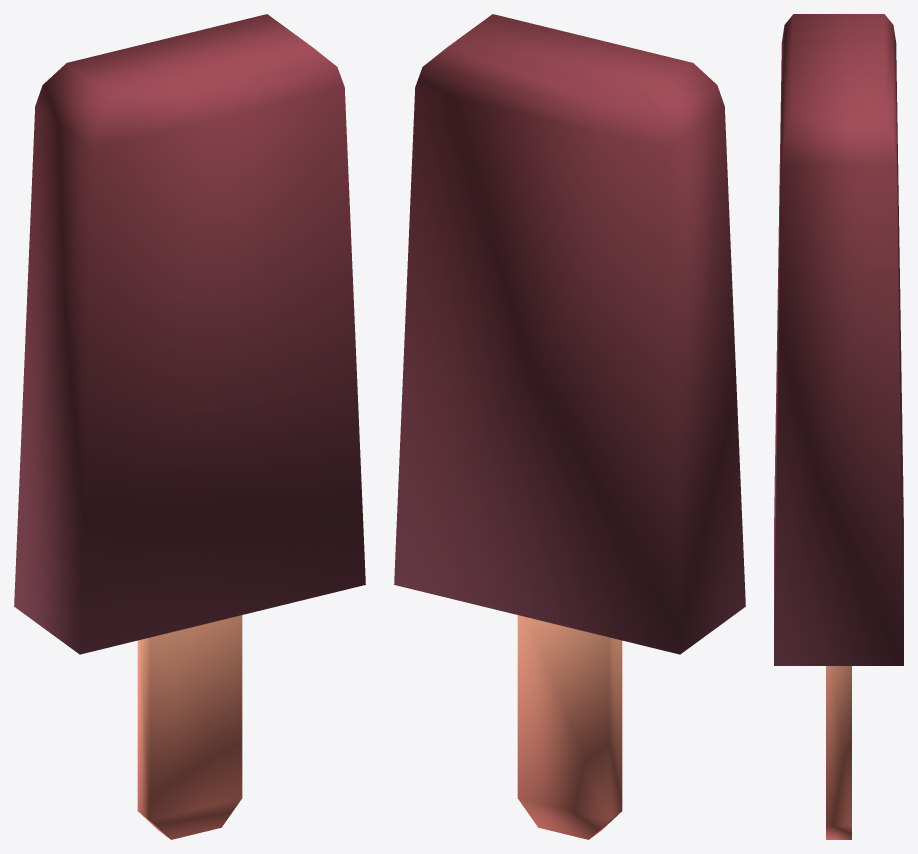
File: IceCream04Var2.fbx
3 renders of one model, left to right at view 1: azimuth 30°, elevation 25°; view 2: azimuth 150°, elevation 25°; view 3: azimuth 270°, elevation 25°, orthographic.
Parts seen in each view (by area): view 1: IceCreamVar4b; view 2: IceCreamVar4b; view 3: IceCreamVar4b.
Boxes of the visible parts, bbox=[...] form: IceCreamVar4b: bbox=[14, 14, 365, 839]; IceCreamVar4b: bbox=[394, 14, 745, 839]; IceCreamVar4b: bbox=[774, 14, 903, 839].
Bounding box in the file's own units: 0.0747 × 0.0297 × 0.193.
